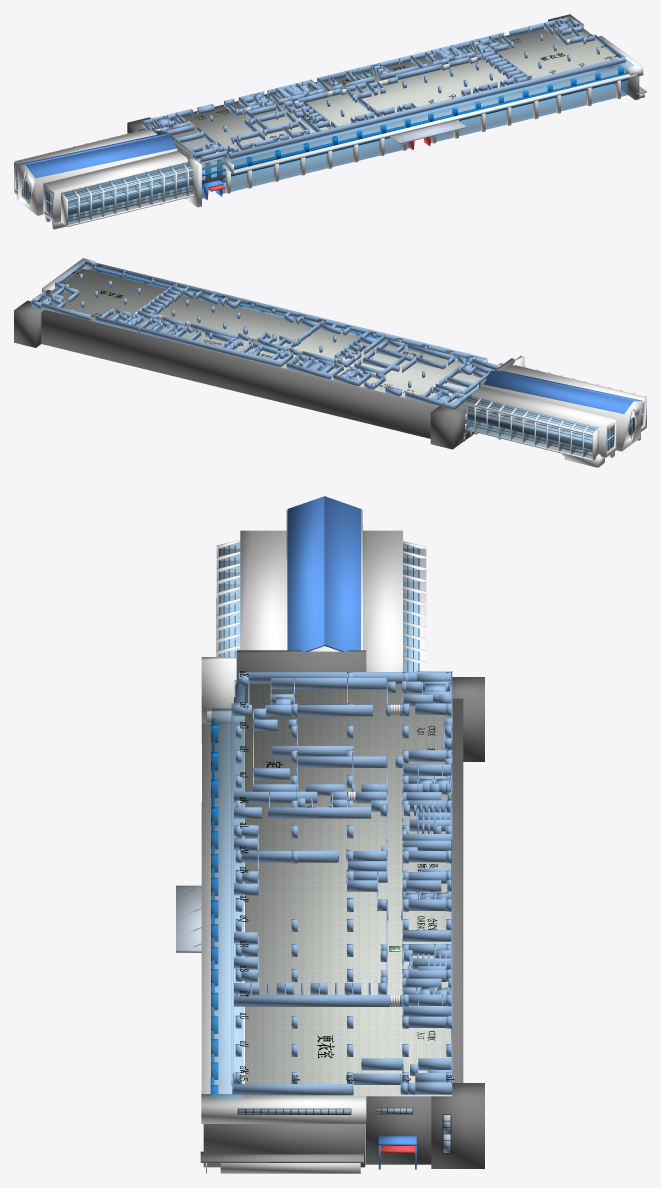
The model's file is ob_4f_mini.gltf.
3 views of the same model, one above another, from view 1: azimuth 30°, elevation 25°; view 2: azimuth 150°, elevation 25°; view 3: azimuth 270°, elevation 25° (orthographic). The views are drawn at different scales.
Parts seen in each view (by area): view 1: ob_dimian_4f, ob_waiguan_4f_45, ob_waiguan_4f_189, ob_waiguan_4f_21, ob_waiguan_4f_206, ob_qiang_4f_241, ob_waiguan_4f_40, ob_waiguan_4f_39, ob_waiguan_4f_104, ob_waiguan_4f_103, ob_waiguan_4f_141, ob_waiguan_4f_207 (+13 smaller); view 2: ob_waiguan_4f_35, ob_dimian_4f, ob_waiguan_4f_29, ob_waiguan_4f_207, ob_waiguan_4f_92, ob_qiang_4f_49, ob_waiguan_4f_103, ob_waiguan_4f_159, ob_qiang_4f_250, ob_waiguan_4f_206, ob_waiguan_4f_168, ob_waiguan_4f_95 (+9 smaller); view 3: ob_dimian_4f, ob_waiguan_4f_45, ob_waiguan_4f_189, ob_waiguan_4f_206, ob_waiguan_4f_207, ob_waiguan_4f_104, ob_waiguan_4f_92, ob_waiguan_4f_165, ob_waiguan_4f_35, ob_waiguan_4f_168, ob_waiguan_4f_44, ob_waiguan_4f_166 (+19 smaller).
Part boxes in pixels (<box>): ob_dimian_4f: <box>151,23,618,163</box>; ob_waiguan_4f_45: <box>231,67,636,174</box>; ob_waiguan_4f_189: <box>223,59,633,166</box>; ob_waiguan_4f_21: <box>62,162,193,224</box>; ob_waiguan_4f_206: <box>43,151,187,222</box>; ob_qiang_4f_241: <box>231,59,616,158</box>; ob_waiguan_4f_40: <box>430,80,628,142</box>; ob_waiguan_4f_39: <box>231,138,410,191</box>; ob_waiguan_4f_104: <box>26,134,176,178</box>; ob_waiguan_4f_103: <box>16,148,177,215</box>; ob_waiguan_4f_141: <box>234,72,628,169</box>; ob_waiguan_4f_207: <box>14,129,156,198</box>; ob_waiguan_4f_35: <box>41,310,438,438</box>; ob_dimian_4f: <box>31,268,494,408</box>; ob_waiguan_4f_29: <box>463,395,597,458</box>; ob_waiguan_4f_207: <box>471,387,616,457</box>; ob_waiguan_4f_92: <box>483,371,633,413</box>; ob_qiang_4f_49: <box>97,263,475,359</box>; ob_waiguan_4f_103: <box>483,384,642,451</box>; ob_waiguan_4f_159: <box>430,406,465,449</box>; ob_qiang_4f_250: <box>95,316,281,366</box>; ob_waiguan_4f_206: <box>505,365,646,434</box>; ob_waiguan_4f_168: <box>14,300,43,347</box>; ob_waiguan_4f_95: <box>463,399,595,435</box>; ob_dimian_4f: <box>245,683,452,1096</box>; ob_waiguan_4f_45: <box>201,723,244,1093</box>; ob_waiguan_4f_189: <box>211,708,244,1099</box>; ob_waiguan_4f_206: <box>240,530,286,650</box>; ob_waiguan_4f_207: <box>363,530,402,671</box>; ob_waiguan_4f_104: <box>288,496,324,651</box>; ob_waiguan_4f_92: <box>324,496,360,651</box>; ob_waiguan_4f_165: <box>203,1124,365,1167</box>; ob_waiguan_4f_35: <box>452,698,463,1082</box>; ob_waiguan_4f_168: <box>431,1083,484,1168</box>; ob_waiguan_4f_44: <box>201,1094,366,1123</box>; ob_waiguan_4f_166: <box>365,1096,431,1164</box>.
Bounding box in the file's own units: 398 × 35.56 × 90.94.
Materials: 25 (10 with a texture image).
